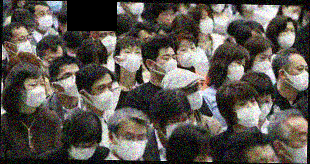with_mask: (115, 129, 150, 161), (235, 96, 264, 129), (22, 79, 48, 109), (287, 63, 310, 93), (166, 115, 192, 141), (94, 80, 114, 113), (120, 46, 143, 74), (69, 140, 100, 160), (61, 69, 82, 97), (185, 82, 205, 111), (178, 42, 199, 69), (292, 129, 308, 164), (252, 51, 274, 74), (13, 31, 34, 55), (277, 25, 297, 50), (98, 29, 118, 53), (256, 96, 275, 121), (160, 52, 179, 76), (228, 59, 247, 83), (36, 8, 54, 33), (44, 55, 62, 77), (198, 13, 215, 36), (284, 7, 302, 23)
without_mask: (160, 10, 176, 26)
